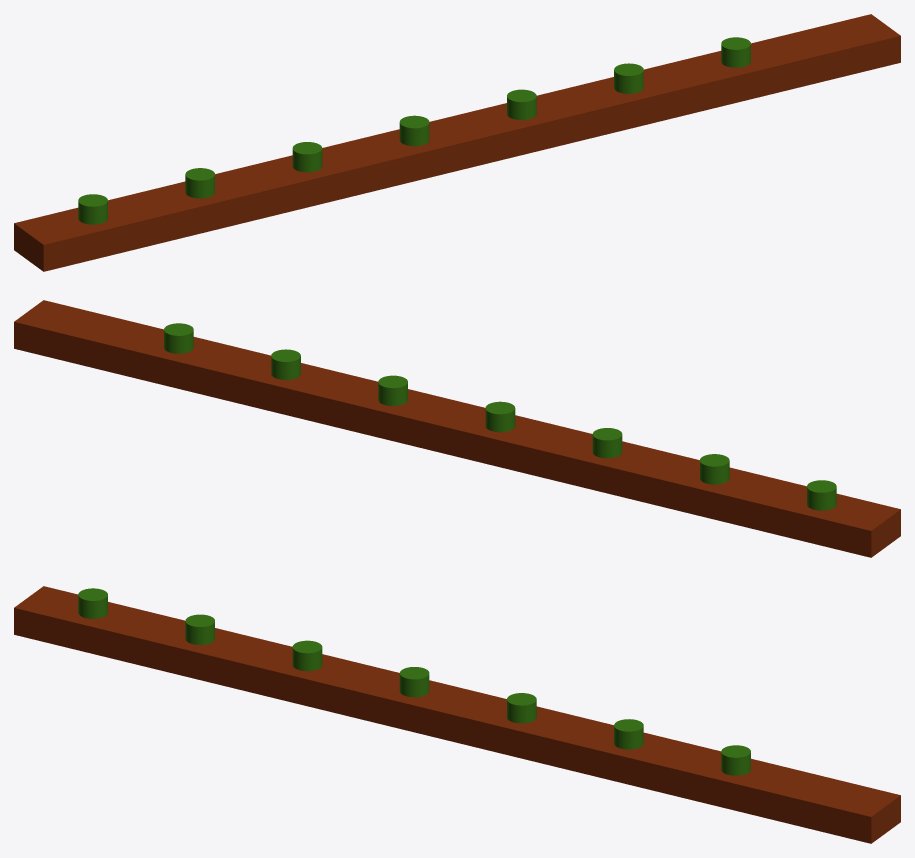
File: pe_bar.glb
3 renders of one model, top to bottom at view 1: azimuth 30°, elevation 25°; view 2: azimuth 150°, elevation 25°; view 3: azimuth 330°, elevation 25°, orthographic.
Visible parts, largest first — view 1: pe_bar; view 2: pe_bar; view 3: pe_bar.
Boxes of the visible parts, bbox=[...] form: pe_bar: bbox=[14, 14, 900, 271]; pe_bar: bbox=[14, 300, 900, 557]; pe_bar: bbox=[14, 586, 900, 843].
Size of the model in its own units: 0.2 by 0.01 by 0.012.
